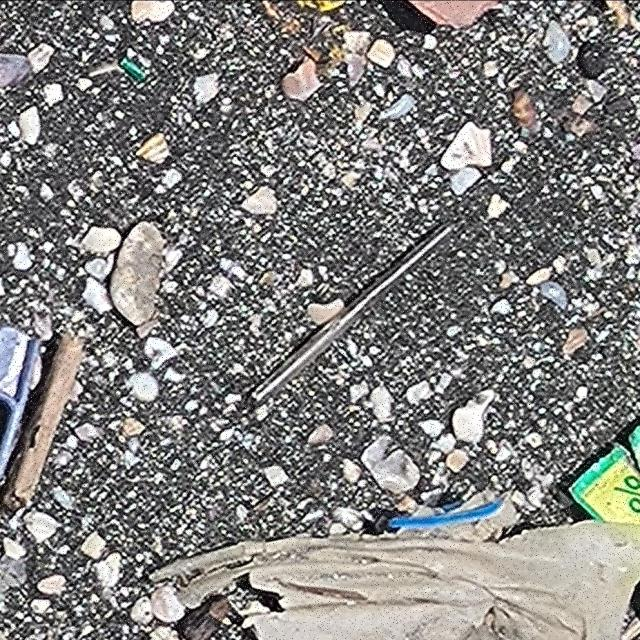plastic_waste: (251, 220, 460, 404)
